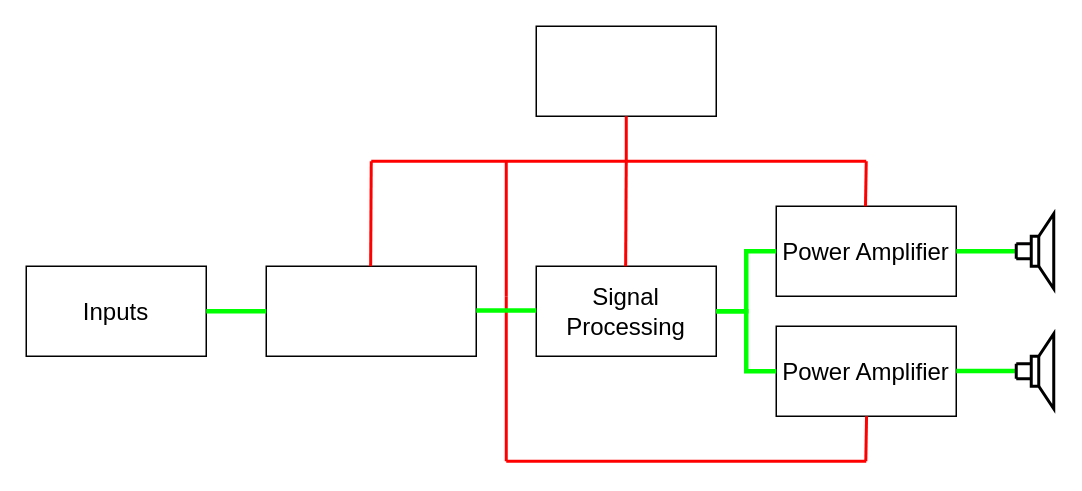
Some shapes in this 1082 by 491 pixel diagram are drawn without their labels. Here are the shapes that lost their labels. From the top down, the box of each, then its label:
(535, 25, 716, 116): Power Supply
(265, 265, 476, 356): Pre-Amplifiers
